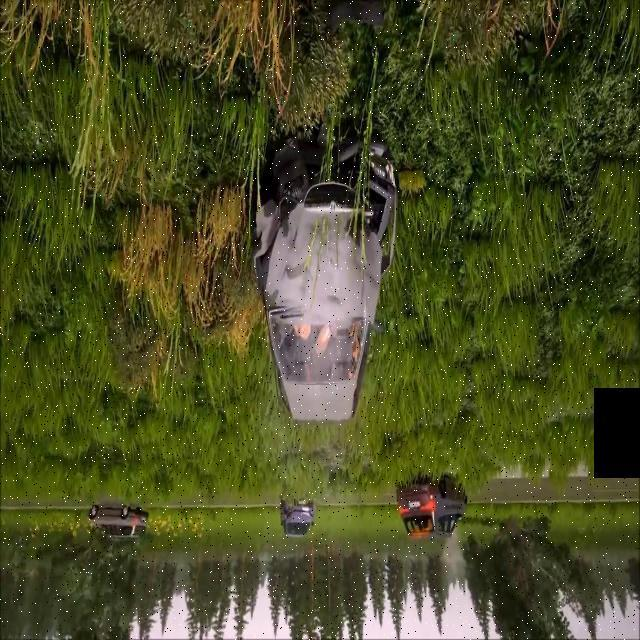severe: (252, 127, 403, 432)
